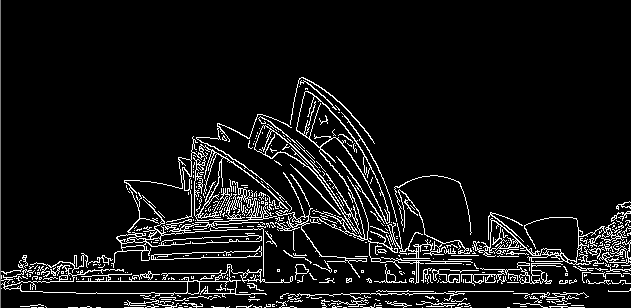opera house: (89, 65, 583, 260)
